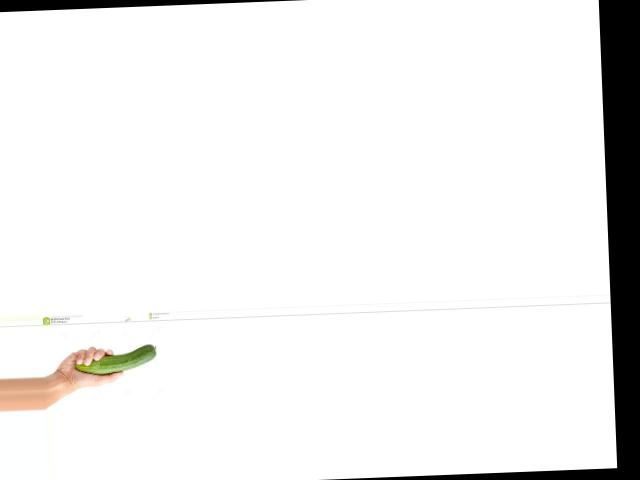cucumber: (74, 343, 157, 374)
